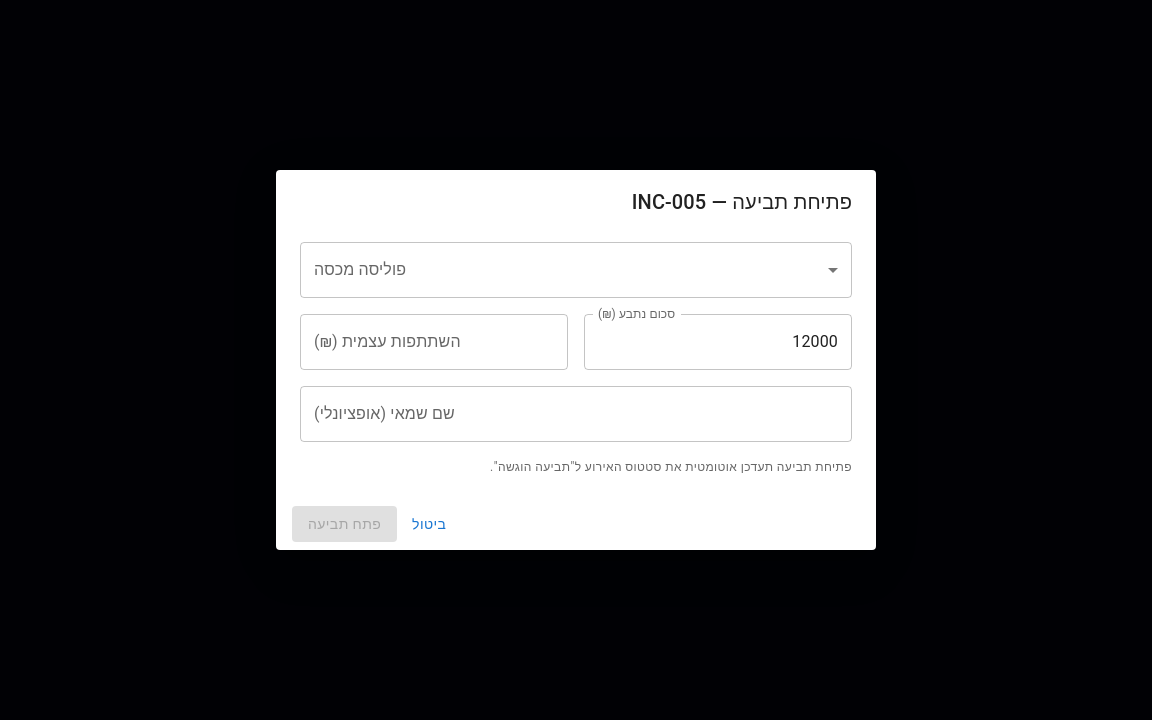
Test: FileClaimDialog › shows the backend's reason for refusing the claim
The width and height of the screenshot is (1152, 720).
Click the dropdown named "פוליסה מכסה". click: [576, 270]
box: [300,242,852,298]
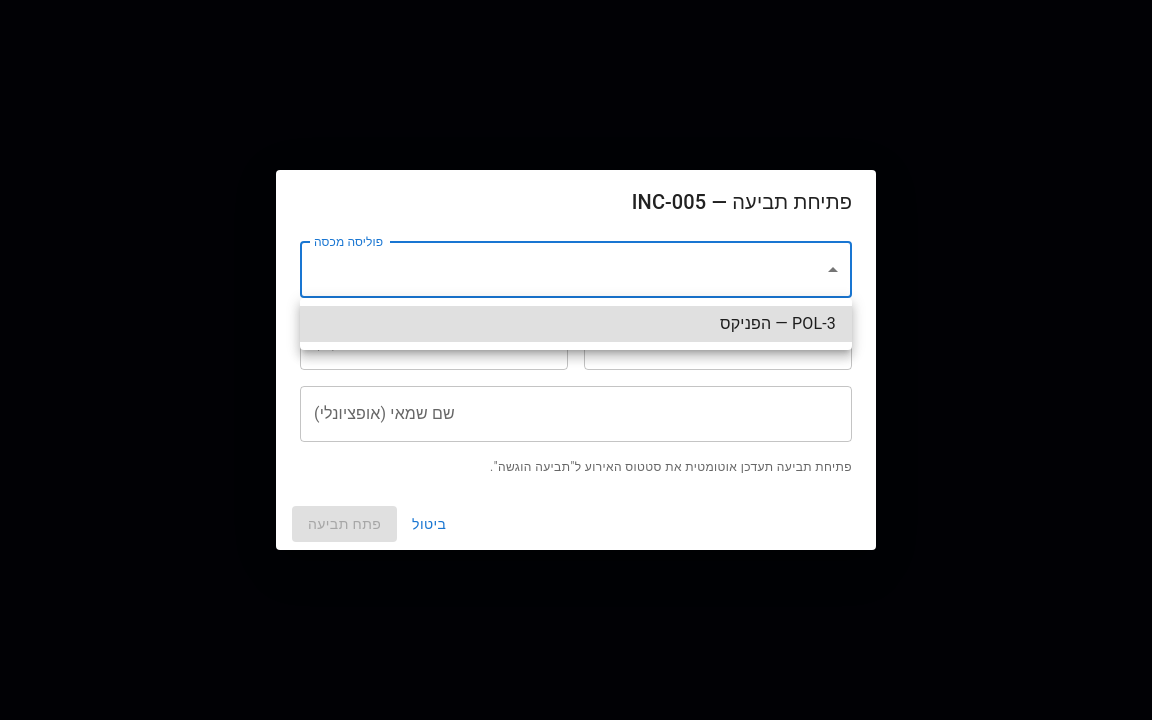
Click the option "POL-3 — הפניקס". click: [814, 324]
box: [300,306,852,342]
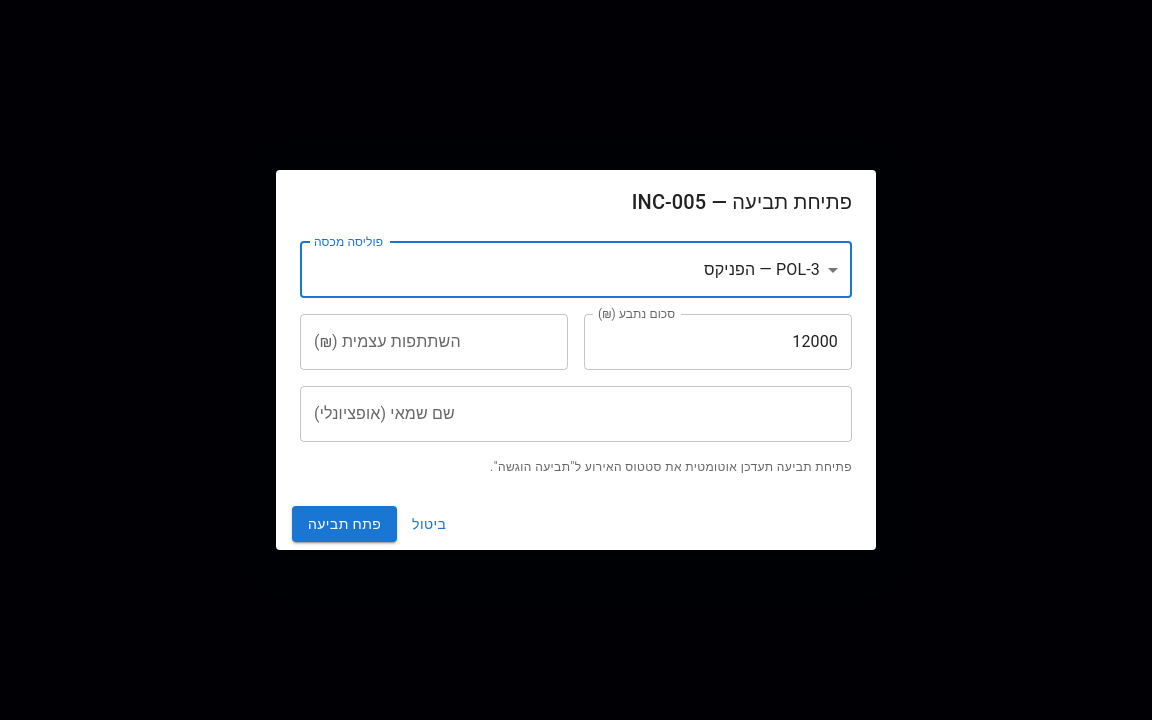
Click the button "פתח תביעה". click: [345, 524]
box: [292,506,397,542]
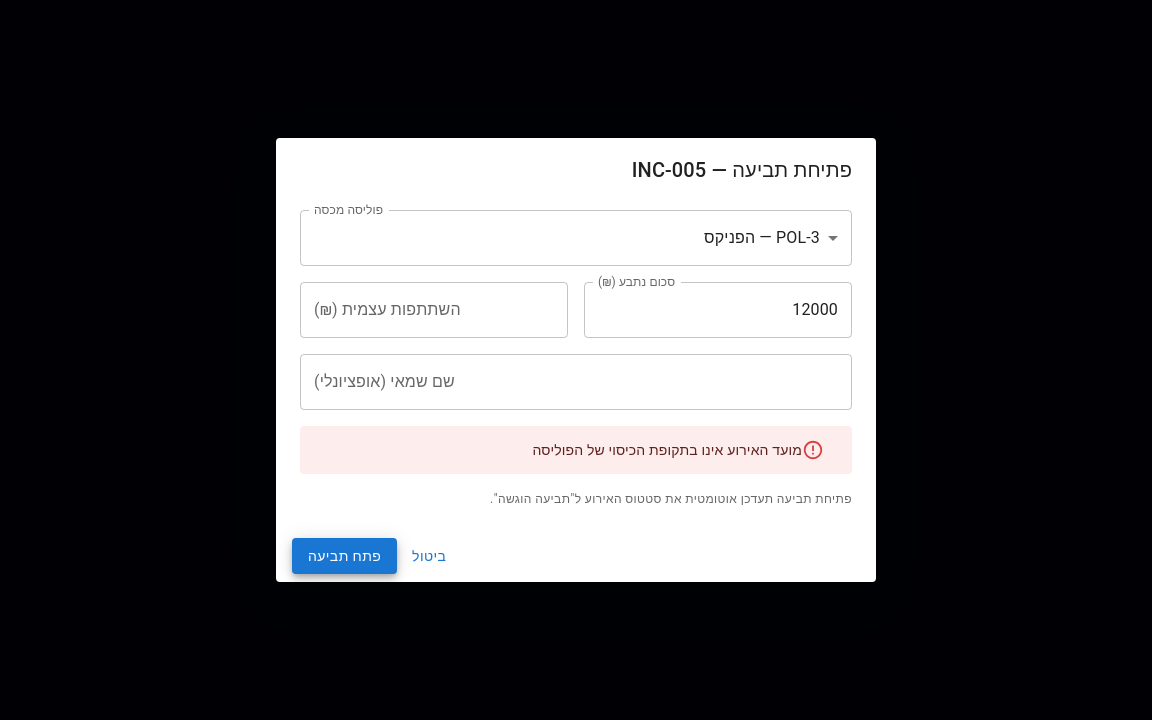
Check: the text "מועד האירוע אינו בתקופת הכיסוי של הפוליסה" is shown, box [532,442,802,458]
